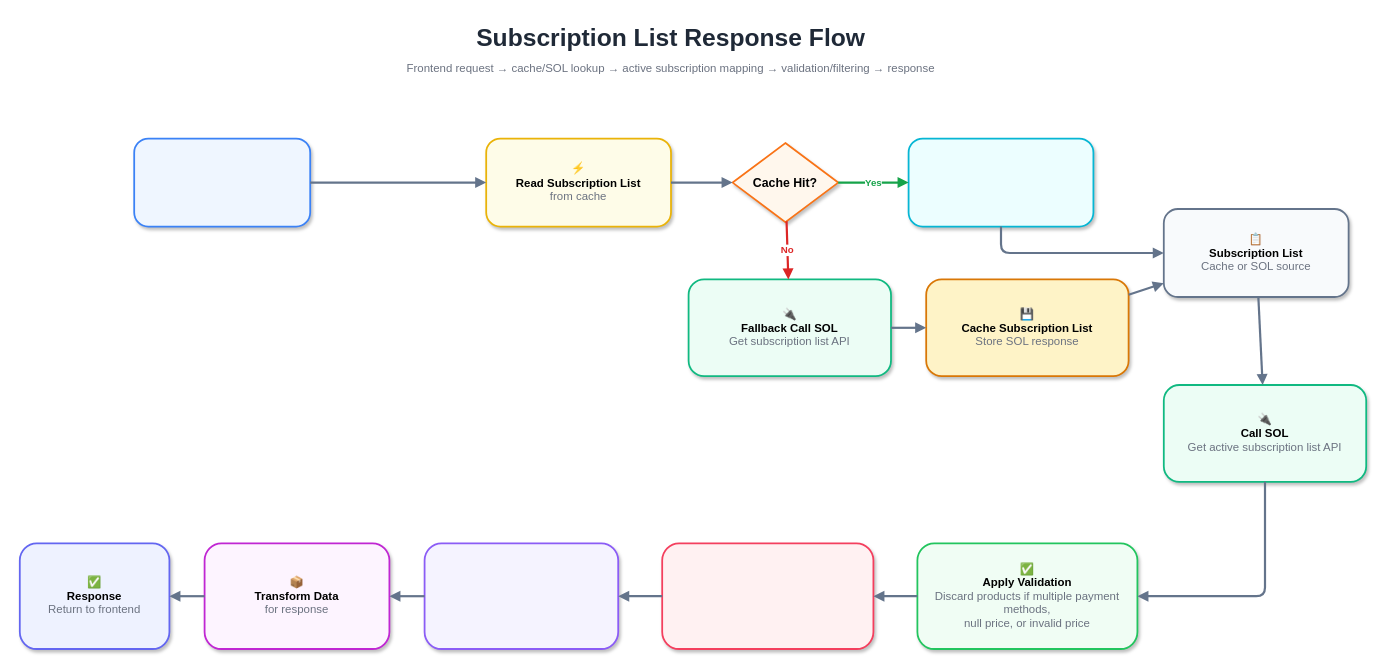
The diagram is 1387 pixels wide and 671 high, and some of its shapes have lost their labels. Here are the shapes that lost their labels. From the top down, the centre of each, then its label:
At (222,183): "🌐 FE Request Client initiates request".
At (1001,183): "📋 Subscription List from cache".
At (522,597): "🔗 Map with Active Subscription list".
At (768,597): "📵 Remove DOB-enabled Products for old app".
